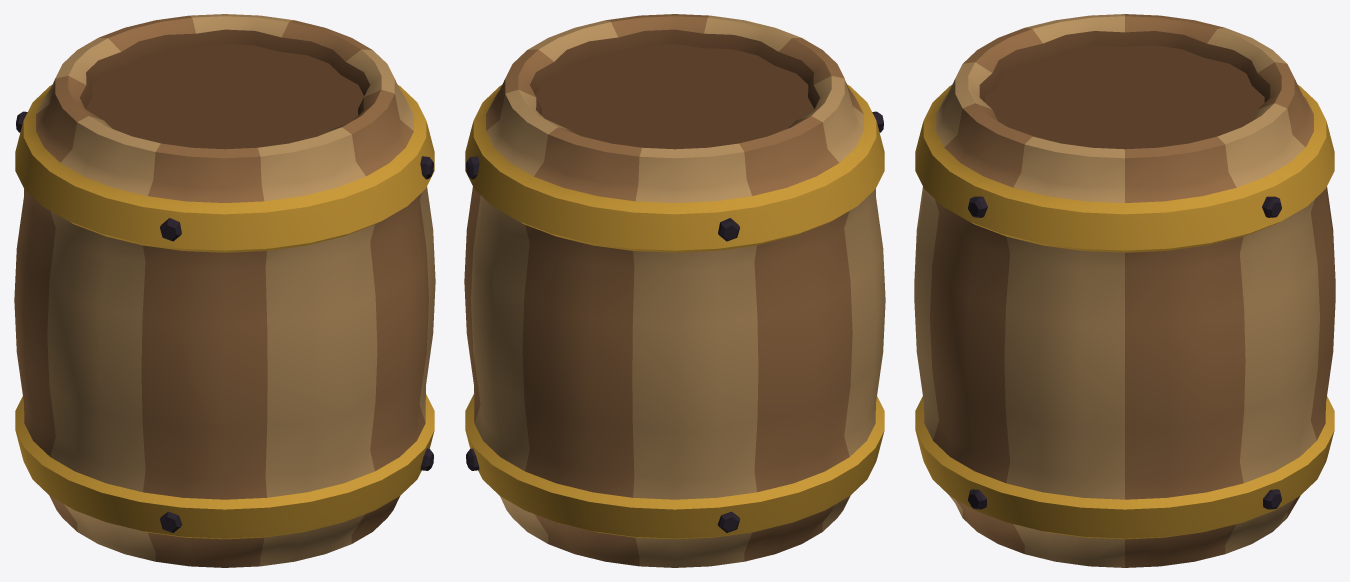
The model's file is Barrel_02.glb.
The picture shows the model from 3 angles, left to right: view 1: azimuth 30°, elevation 25°; view 2: azimuth 150°, elevation 25°; view 3: azimuth 270°, elevation 25°; orthographic projection.
Parts seen in each view (by area): view 1: Barrel_02; view 2: Barrel_02; view 3: Barrel_02.
Part boxes in pixels (<box>): Barrel_02: <box>14,14,435,567</box>; Barrel_02: <box>464,14,885,567</box>; Barrel_02: <box>914,14,1335,567</box>.
Bounding box in the file's own units: 2.22 × 2.42 × 2.22.
